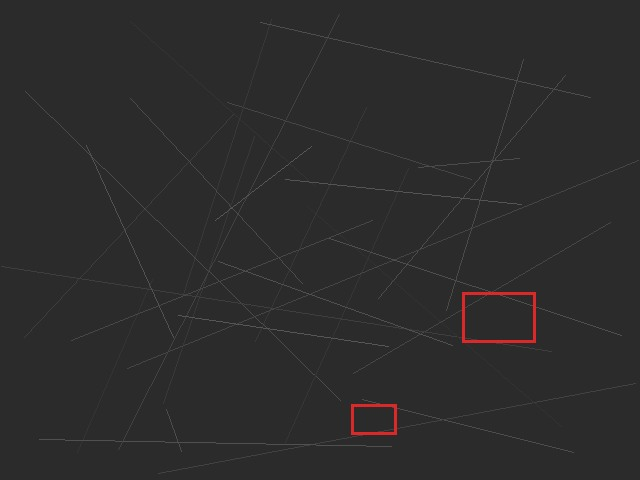D00: (462, 292, 535, 342)
D40: (351, 404, 396, 434)
